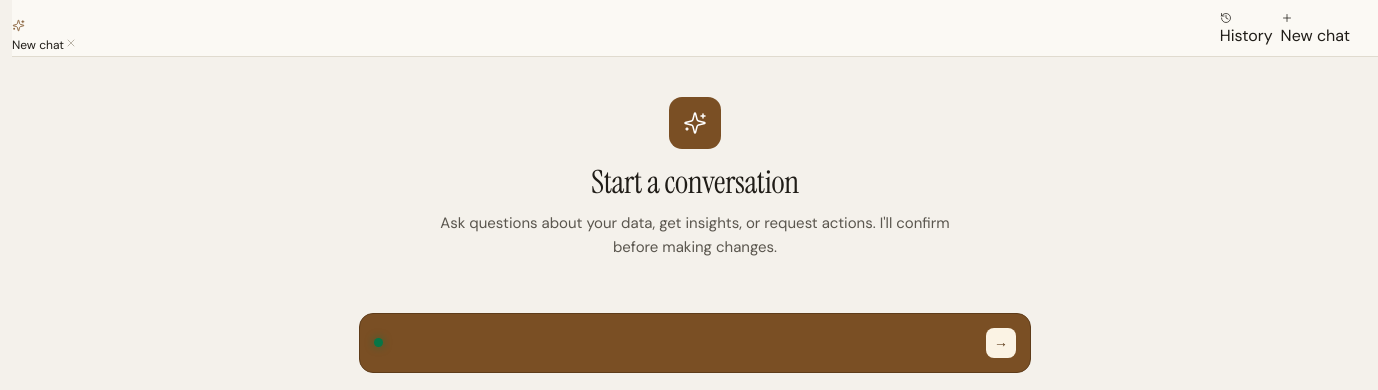
Test: IntelligenceWorkspace › adds a new tab when New chat button is clicked
Click the button "New chat": point(1315, 30) 1281,12 -> 1350,48
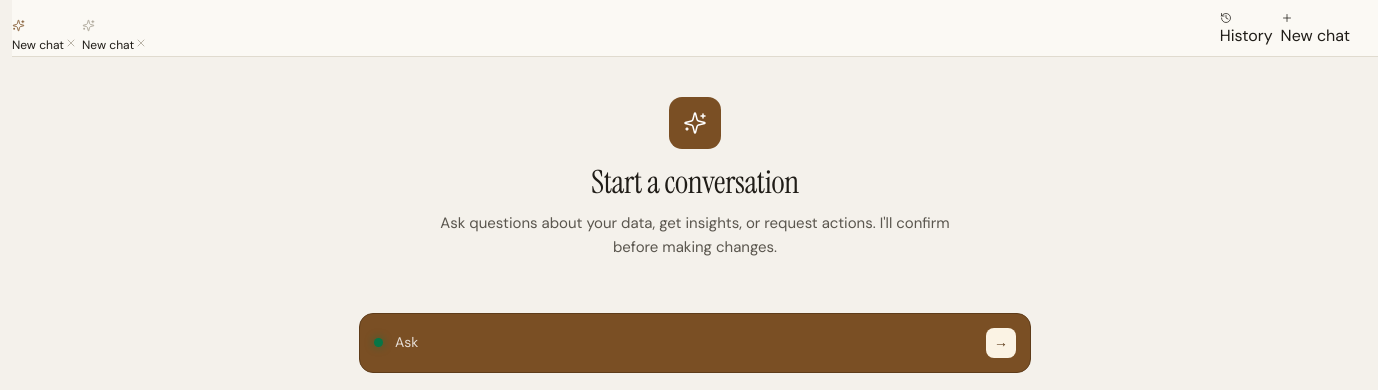
Now the number of tabs is 2, box 12,19 -> 78,56; 82,19 -> 148,56
